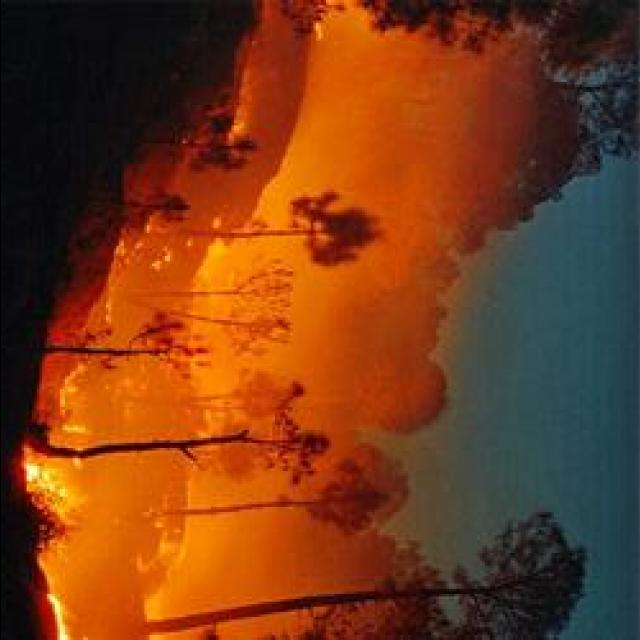fire: (48, 596, 66, 640), (17, 462, 51, 482)
smoke: (316, 39, 547, 150), (182, 514, 394, 604), (300, 278, 406, 382)
